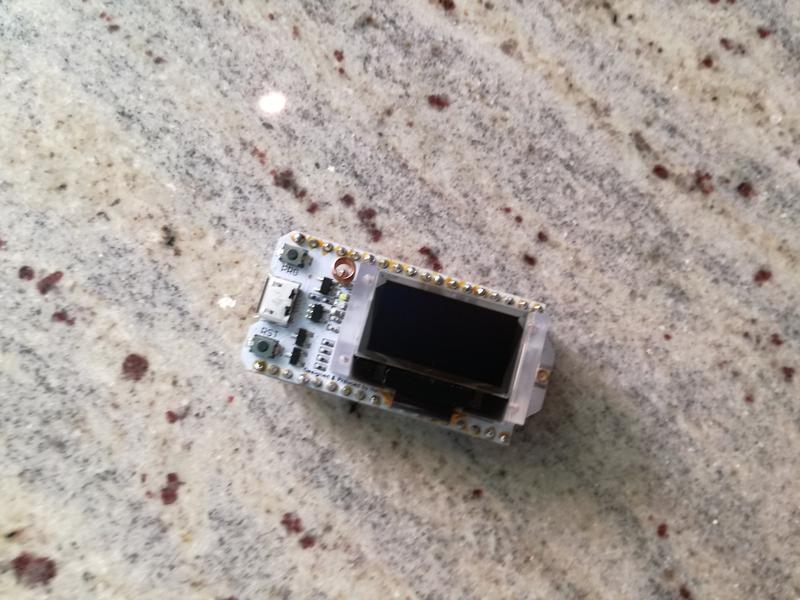Heltec_ESP32_Lora: (239, 227, 560, 455)
